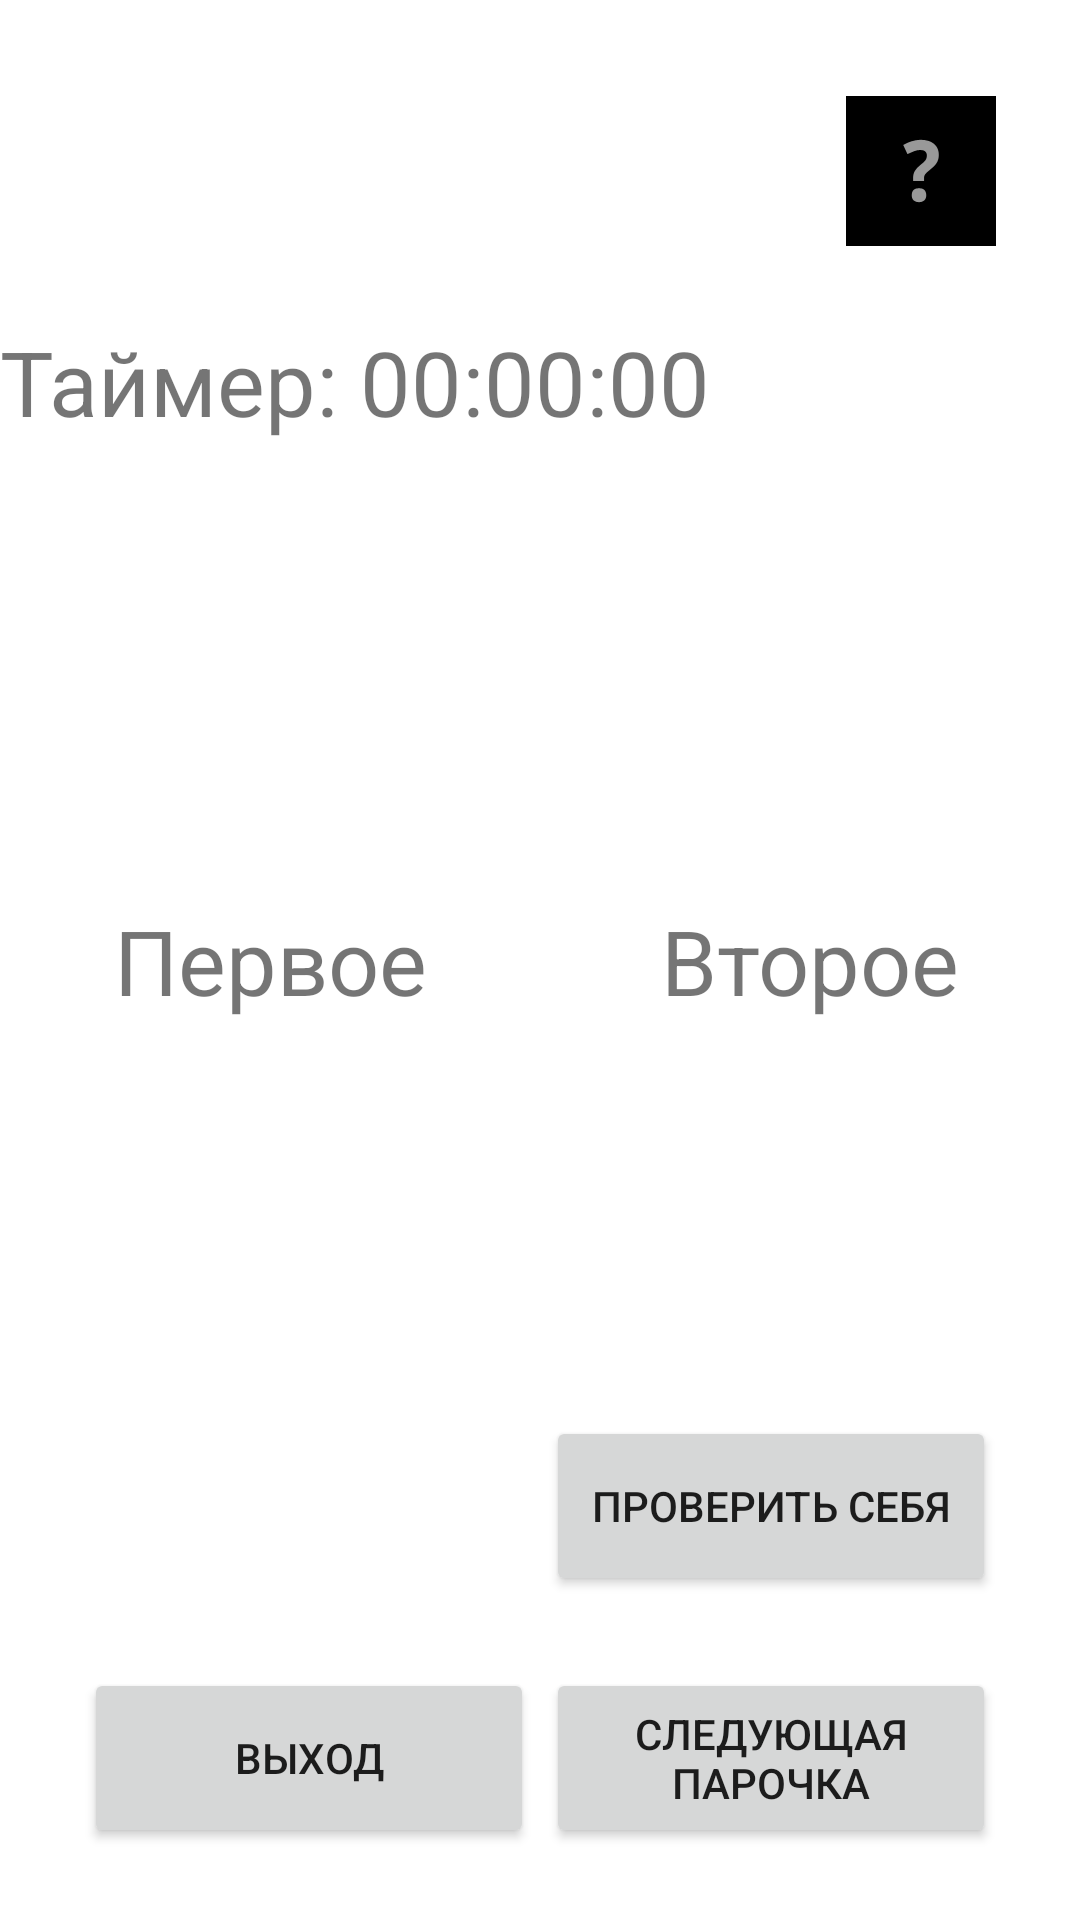

Icons on this 1080 × 1920 Android screen, each with its box as (x1, y1, x2, y2):
help: (846, 96, 996, 246)
